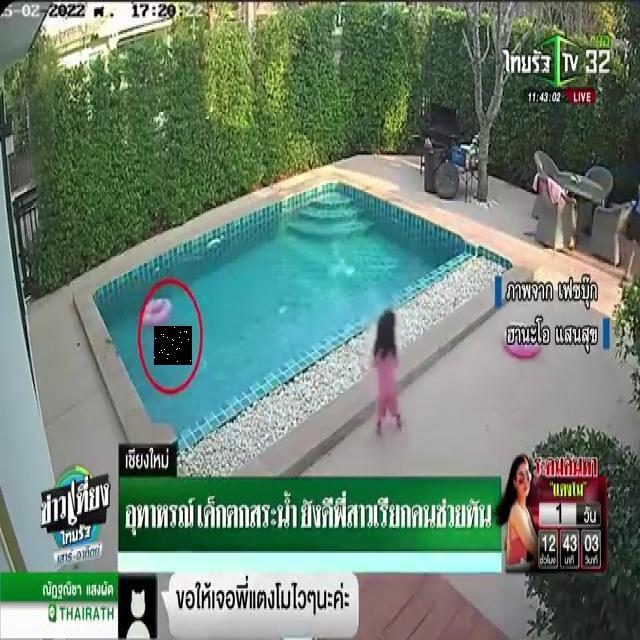Out of Water: (154, 326, 192, 365)
